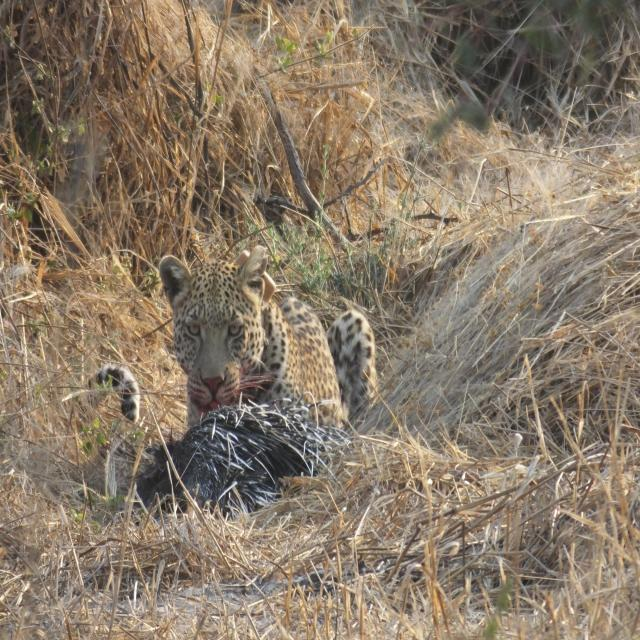Leopard: (87, 250, 388, 438)
